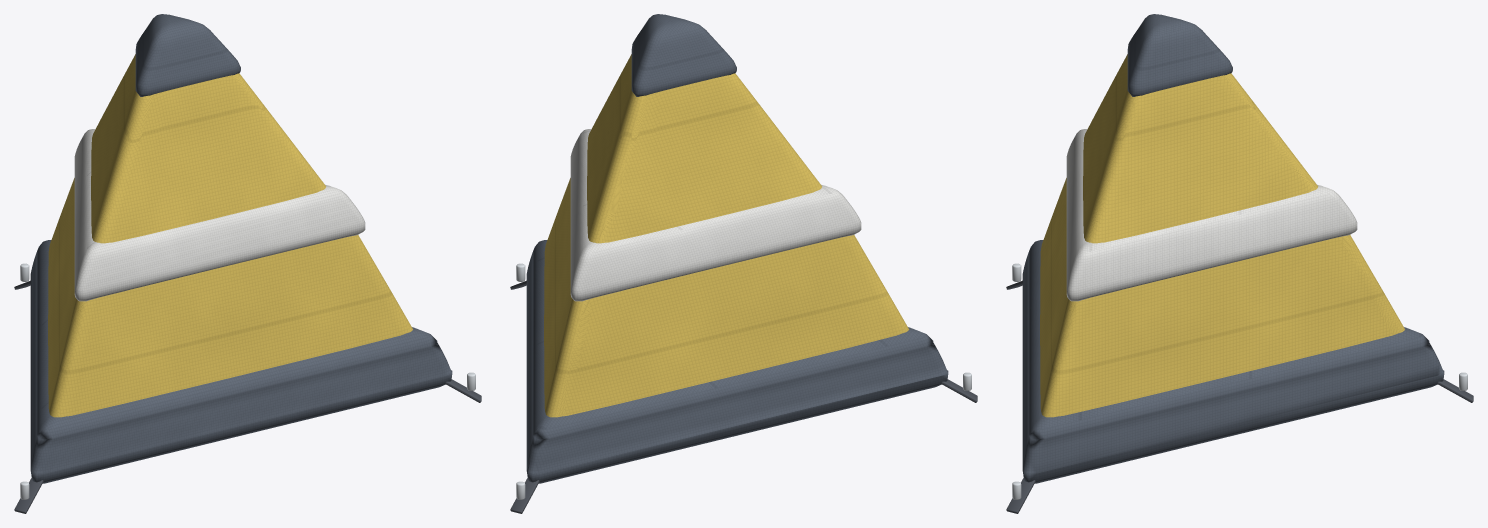
The model's file is bunker_dorito_gold.glb.
3 renders of one model, left to right at view 1: azimuth 30°, elevation 25°; view 2: azimuth 150°, elevation 25°; view 3: azimuth 270°, elevation 25°, orthographic.
Parts seen in each view (by area): view 1: DoritoBody, DoritoBaseSkirt, DoritoStripeBand, DoritoTopCap; view 2: DoritoBody, DoritoBaseSkirt, DoritoStripeBand, DoritoTopCap; view 3: DoritoBody, DoritoBaseSkirt, DoritoStripeBand, DoritoTopCap.
Part boxes in pixels (x1,y1,x2,y2): DoritoBody: [48, 54, 412, 417]; DoritoBaseSkirt: [30, 240, 452, 483]; DoritoStripeBand: [74, 129, 365, 301]; DoritoTopCap: [135, 14, 240, 96]; DoritoBody: [544, 54, 908, 417]; DoritoBaseSkirt: [526, 240, 948, 483]; DoritoStripeBand: [570, 129, 861, 301]; DoritoTopCap: [631, 14, 736, 96]; DoritoBody: [1040, 54, 1404, 417]; DoritoBaseSkirt: [1022, 240, 1444, 483]; DoritoStripeBand: [1066, 129, 1357, 301]; DoritoTopCap: [1127, 14, 1232, 96].
Bounding box in the file's own units: 2.83 × 2.2 × 2.45.
Materials: 5 (3 with a texture image).
